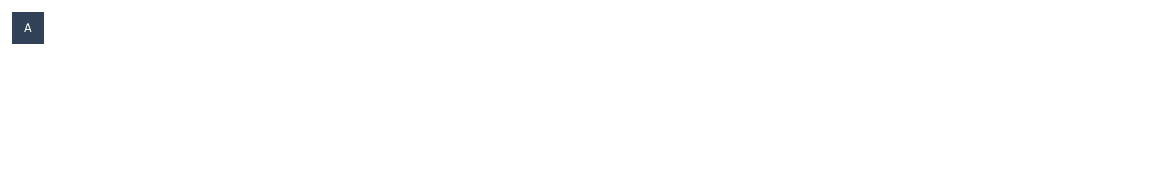
Scenario: UserMenu › shows an Admin link for a super admin
Click the button named "account menu" at (28, 28), box [12, 12, 44, 44]
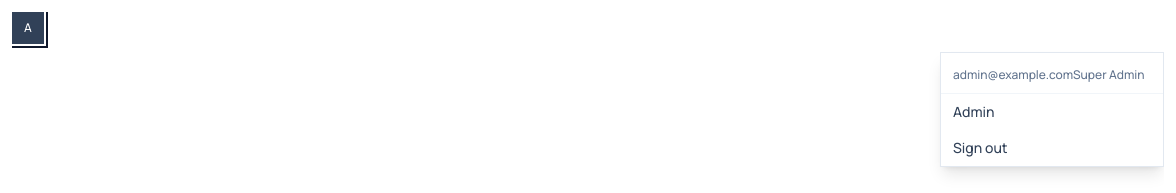
Now the menu item "Admin" is shown, box [953, 102, 994, 121]
